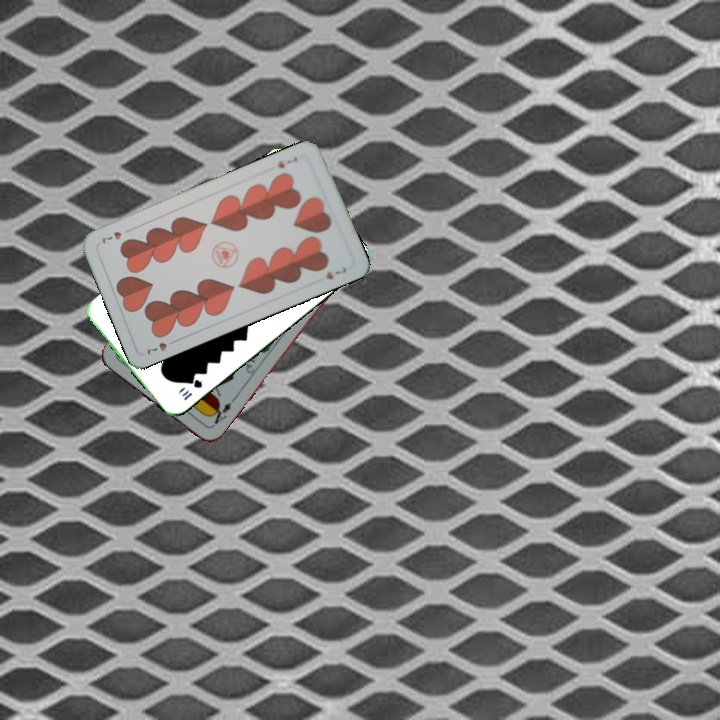EA: (206, 395, 237, 430)
G10: (178, 375, 205, 403)
H7: (143, 335, 180, 357), (274, 152, 300, 171)
